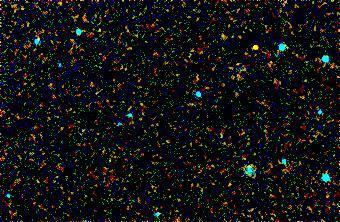star: (240, 32, 270, 62)
